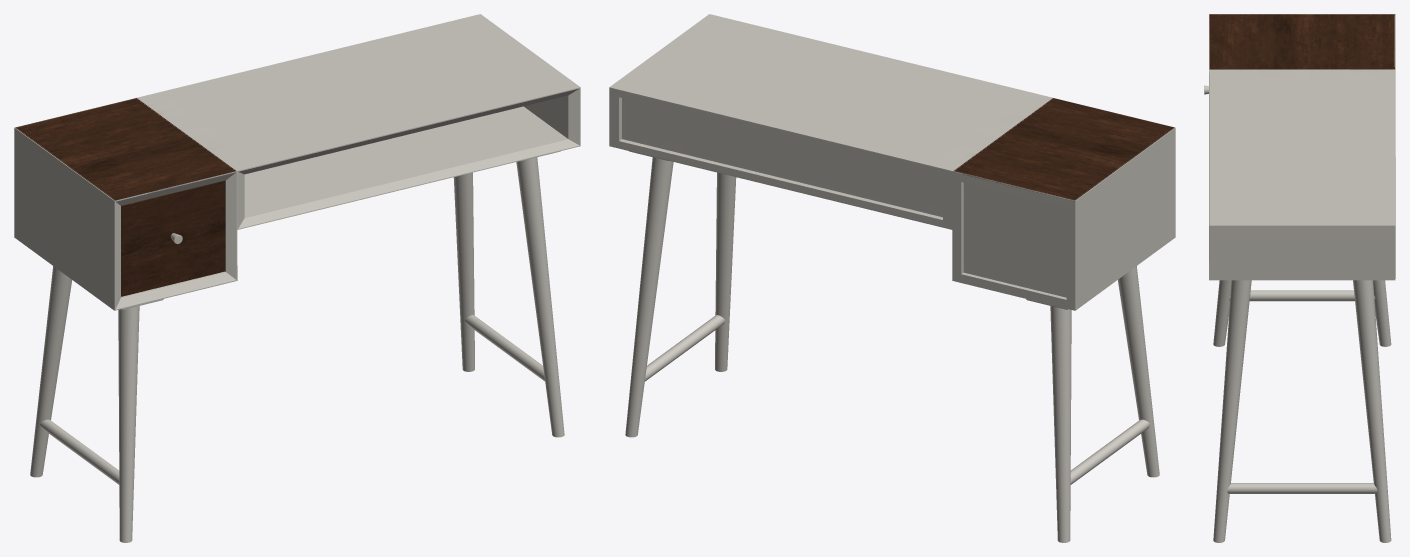
File: B07HSJDN75.glb
3 views of the same model, side by side, from view 1: azimuth 30°, elevation 25°; view 2: azimuth 150°, elevation 25°; view 3: azimuth 270°, elevation 25° (orthographic). The views are drawn at different scales.
Visible parts, largest first — view 1: RootNode; view 2: RootNode; view 3: RootNode.
Boxes of the visible parts, left/top/right/bottom form: RootNode: left=14, top=14, right=580, bottom=542; RootNode: left=609, top=14, right=1175, bottom=542; RootNode: left=1204, top=14, right=1395, bottom=542.
Bounding box in the file's own units: 1.07 × 0.7607 × 0.4086.
Materials: 1 (1 with a texture image).
